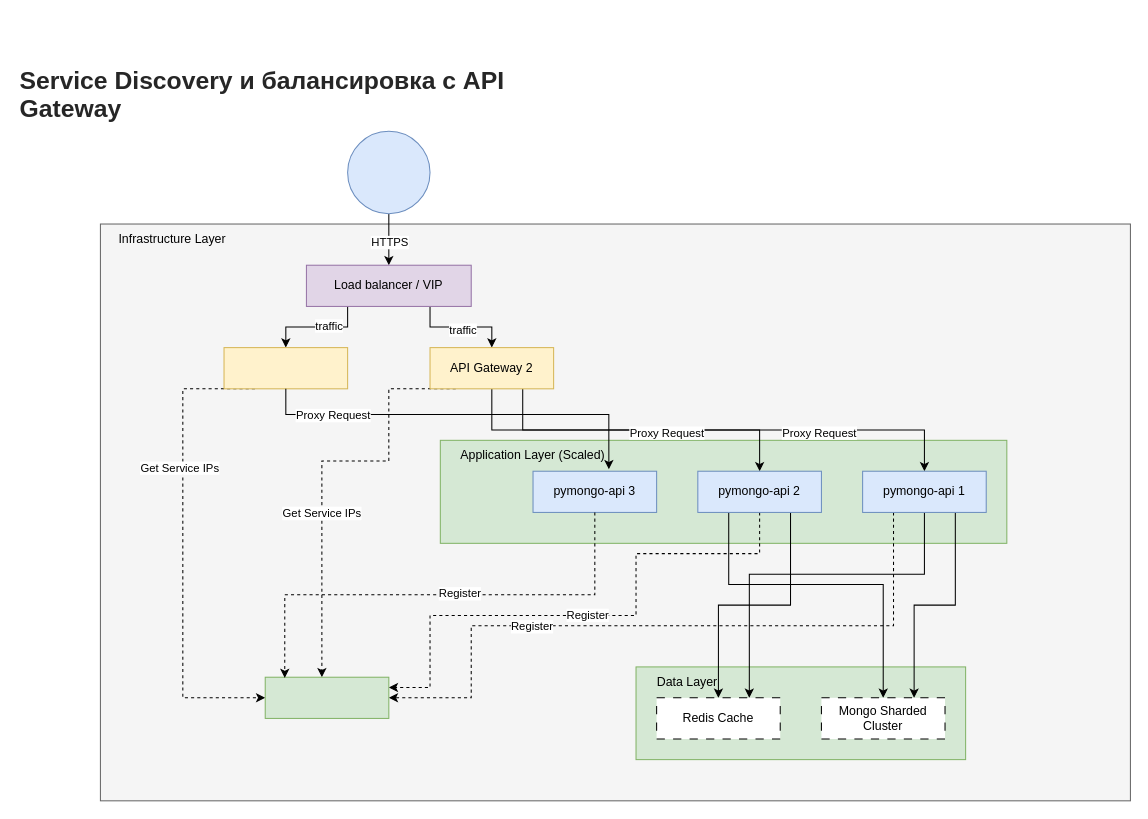
Some shapes in this 1148 by 819 pixel diagram are drawn without their labels. The box of each missing label's shape, as (x1, y1, x2, y2) in pixels:
API Gateway 1: (223, 347, 348, 389)
Consul Service Registry: (264, 676, 389, 718)
Пользователь: (347, 130, 430, 214)
